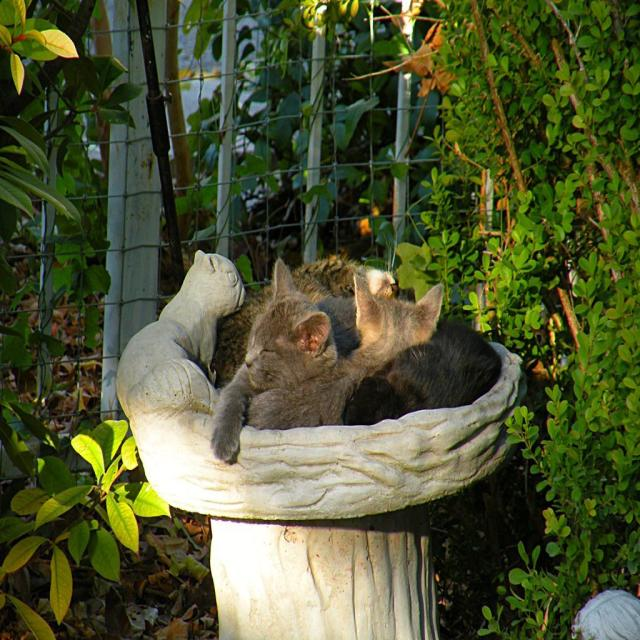Cat: (114, 248, 503, 462)
